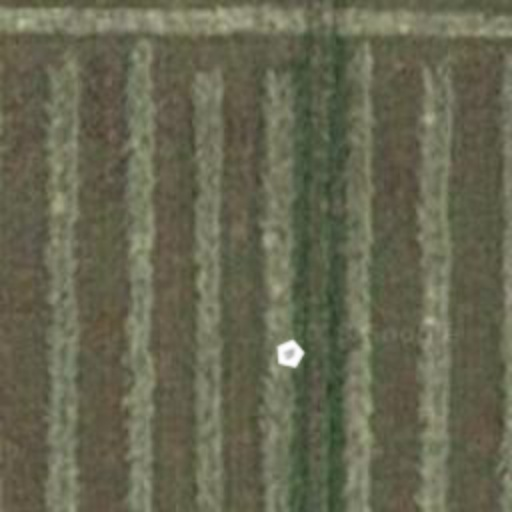pentagon: (270, 334, 310, 374)
